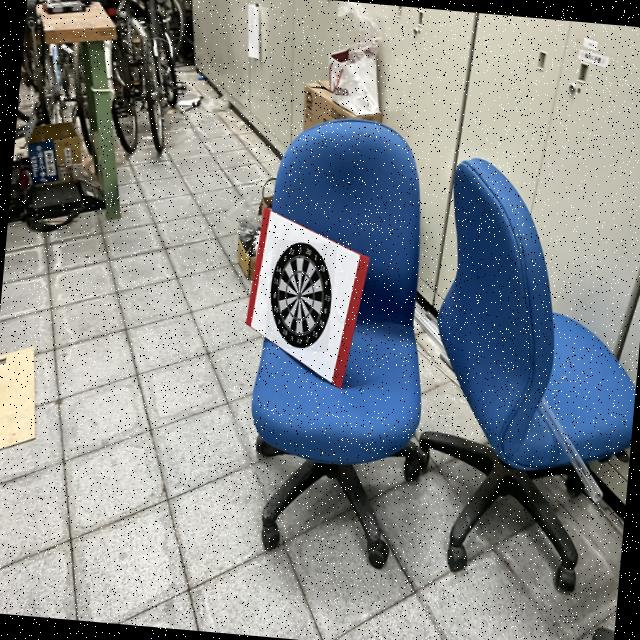archery-targets: (264, 238, 336, 352)
